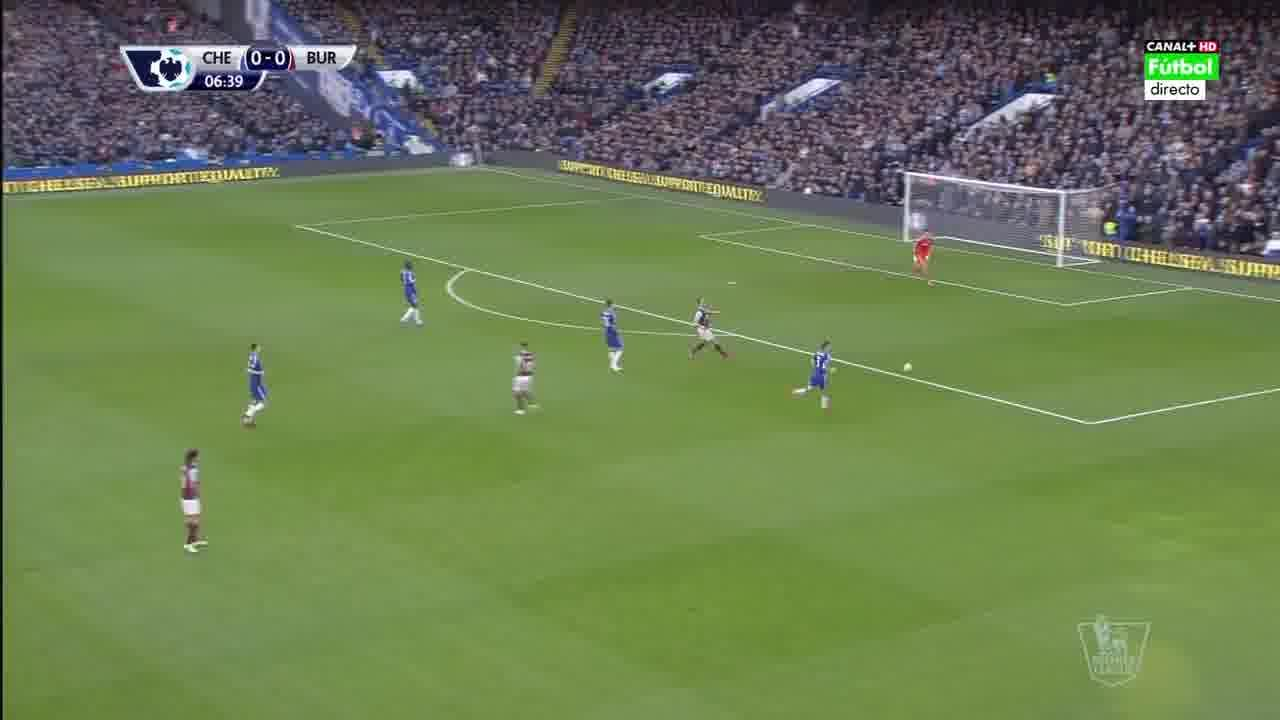football: (904, 362, 912, 374)
